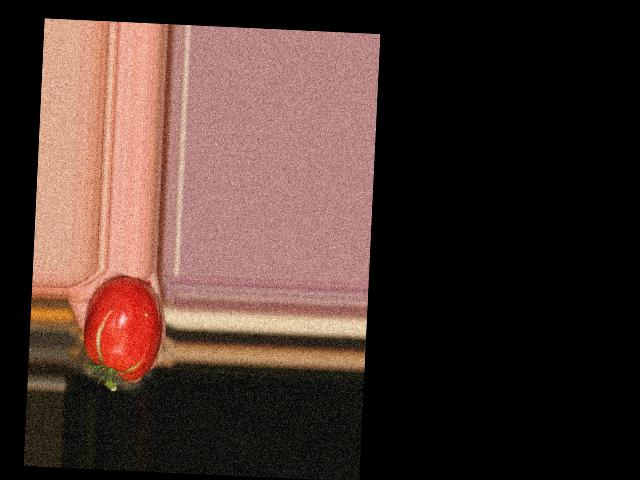tomato: (83, 274, 165, 382)
